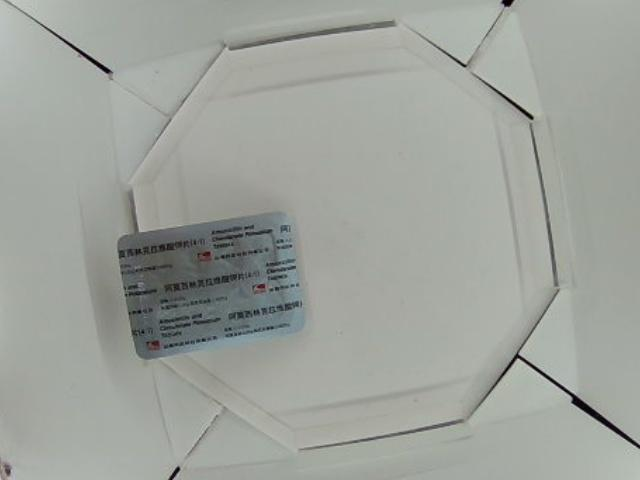Medicine: (115, 211, 306, 361)
